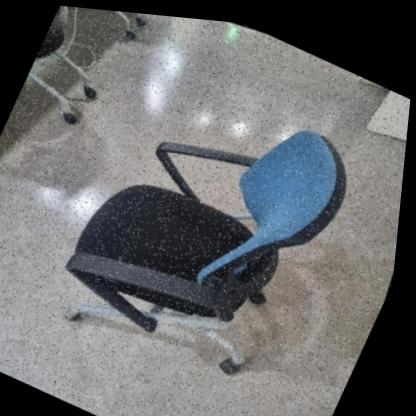Chair: (0, 17, 415, 416)
